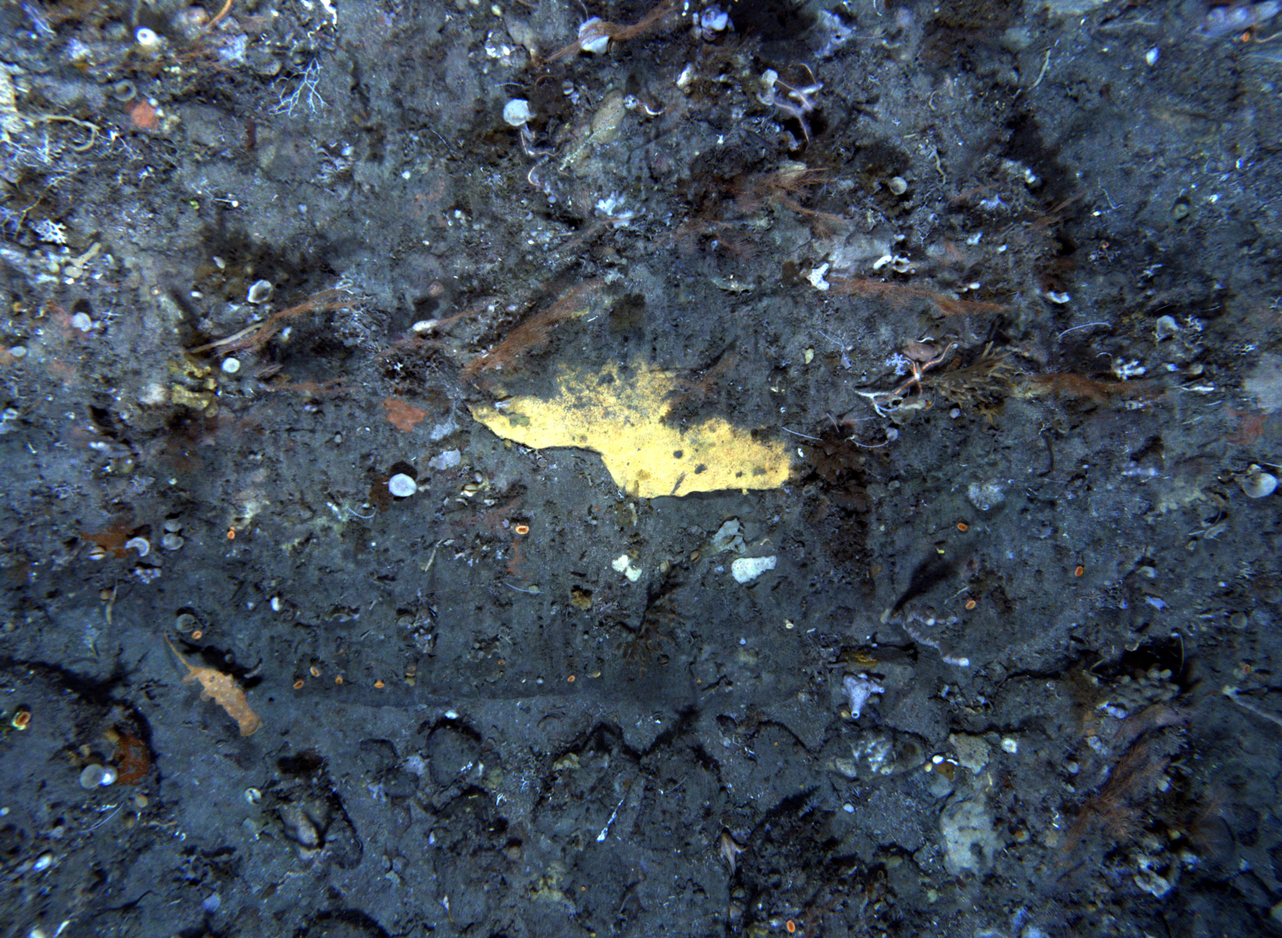Brachionichthyidae: (714, 831, 752, 889)
